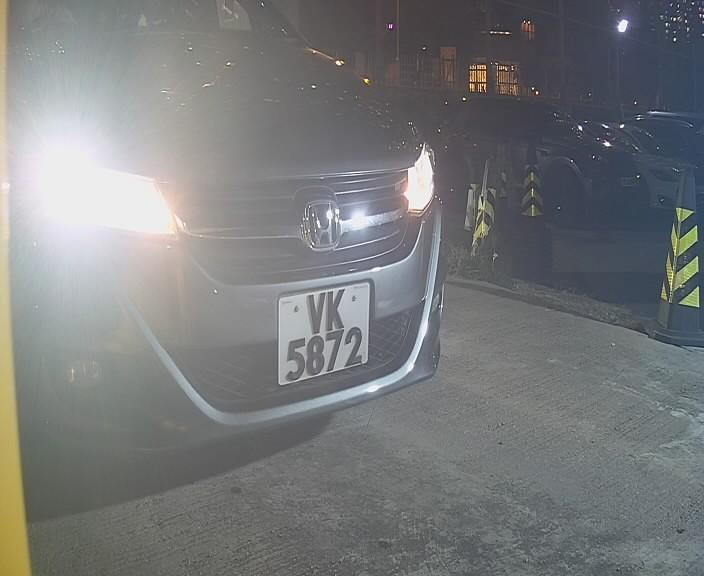privatecar: (10, 6, 478, 471)
